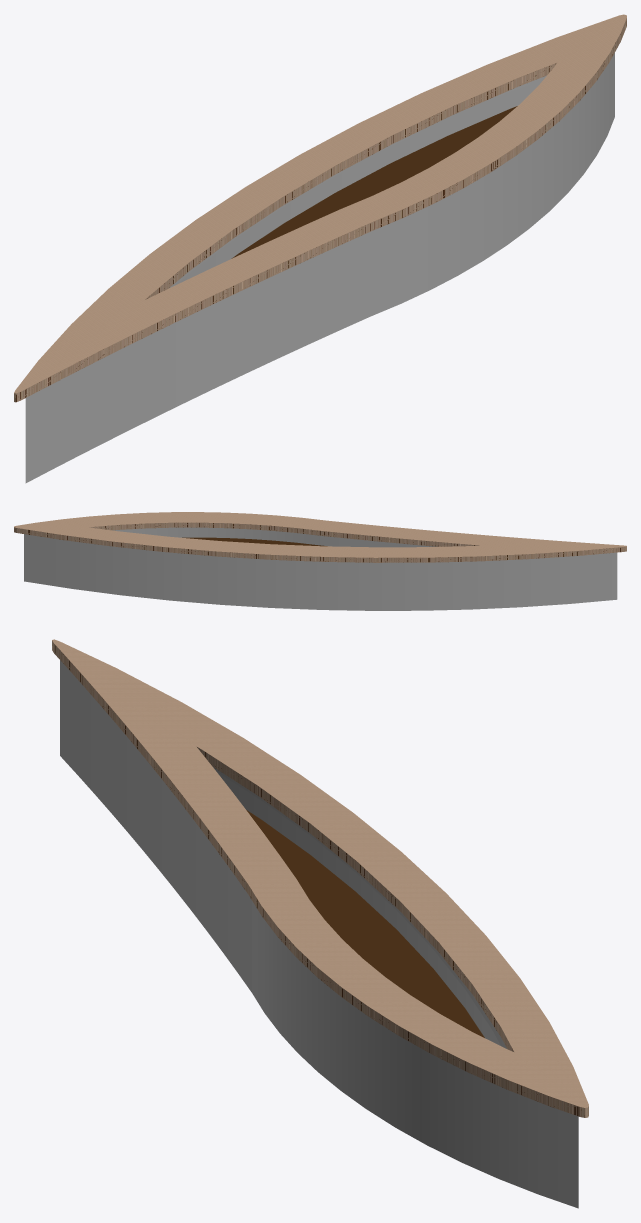
The model's file is bank.glb.
3 views of the same model, one above another, from view 1: azimuth 30°, elevation 25°; view 2: azimuth 150°, elevation 25°; view 3: azimuth 270°, elevation 25° (orthographic). The views are drawn at different scales.
Parts seen in each view (by area): view 1: i, i.001, i.002; view 2: i, i.001, i.002; view 3: i, i.001, i.002.
Part boxes in pixels (<box>): i: <box>25,53,614,483</box>; i.001: <box>14,14,626,402</box>; i.002: <box>231,106,517,258</box>; i: <box>24,527,617,610</box>; i.001: <box>14,512,626,562</box>; i.002: <box>182,537,327,546</box>; i: <box>60,660,578,1208</box>; i.001: <box>52,639,588,1117</box>; i.002: <box>246,810,484,1037</box>.
Size of the model in its own units: 0.5834 by 0.063 by 0.2825.
3 materials, 1 textured.
